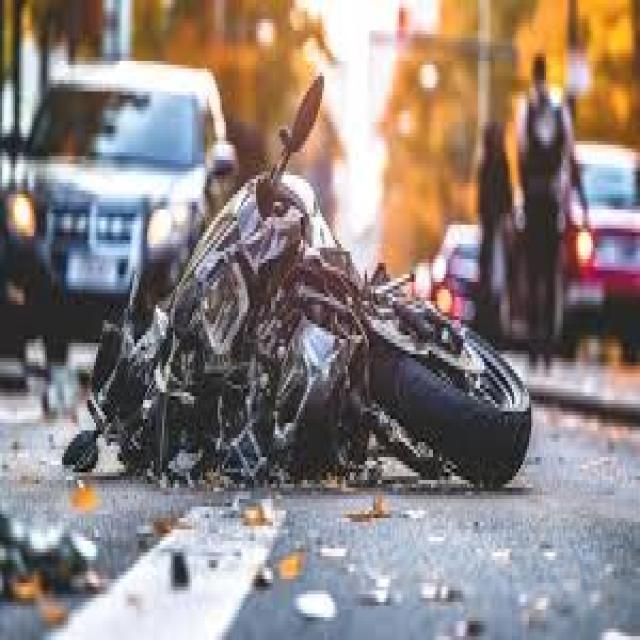Accident: (61, 72, 531, 518)
